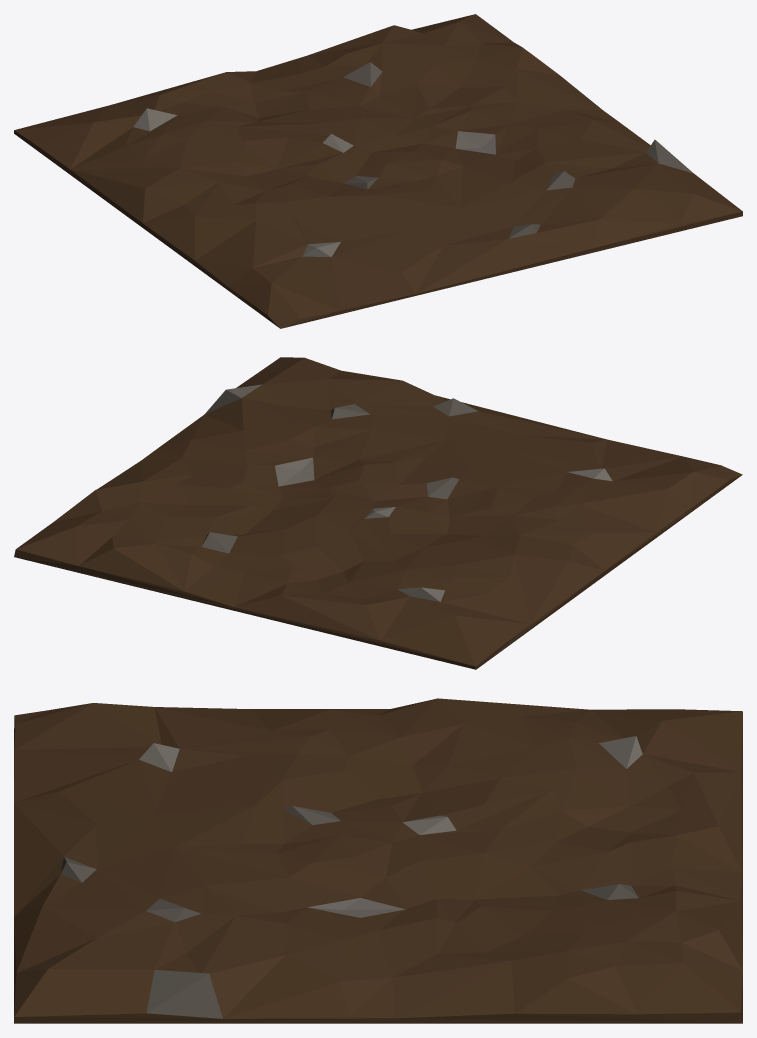
The model's file is MDungeon_SoilGroundTile_01.FBX.
The picture shows the model from 3 angles, top to bottom: view 1: azimuth 30°, elevation 25°; view 2: azimuth 150°, elevation 25°; view 3: azimuth 270°, elevation 25°; orthographic projection. The views are drawn at different scales.
Visible parts, largest first — view 1: MDungeon_SoilGroundTile_01_LOD0; view 2: MDungeon_SoilGroundTile_01_LOD0; view 3: MDungeon_SoilGroundTile_01_LOD0.
Part boxes in pixels (box(x1,y1,x2,y2)): MDungeon_SoilGroundTile_01_LOD0: box(14, 14, 742, 328); MDungeon_SoilGroundTile_01_LOD0: box(14, 357, 742, 669); MDungeon_SoilGroundTile_01_LOD0: box(14, 698, 742, 1023).
Size of what is drawn, in the model's own units: 6.27 by 0.4009 by 6.27.
